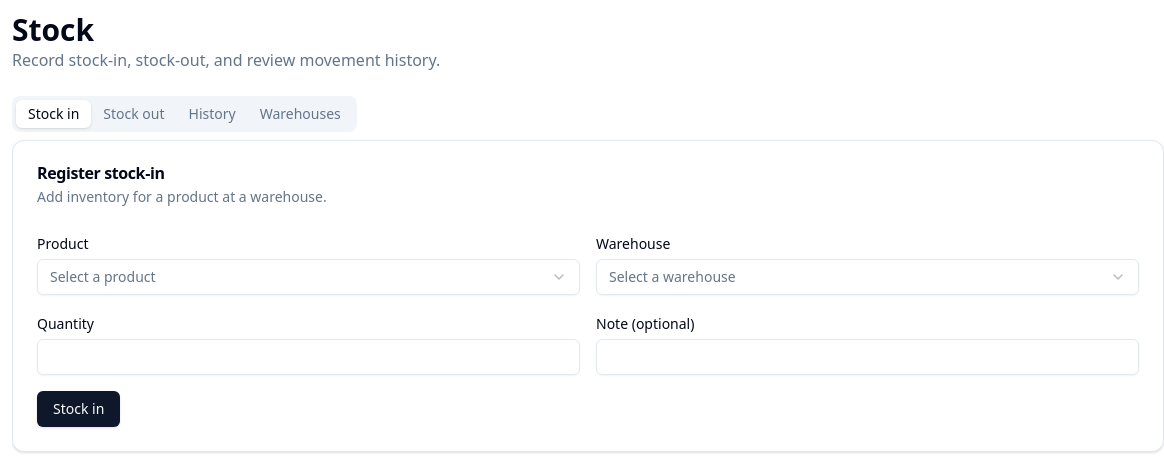
StockPanel (在庫操作) › 出庫タブをクリックすると出庫フォームに切り替わる
Click the tab "Stock out" at {"x": 134, "y": 114}, box [91,100,176,128]
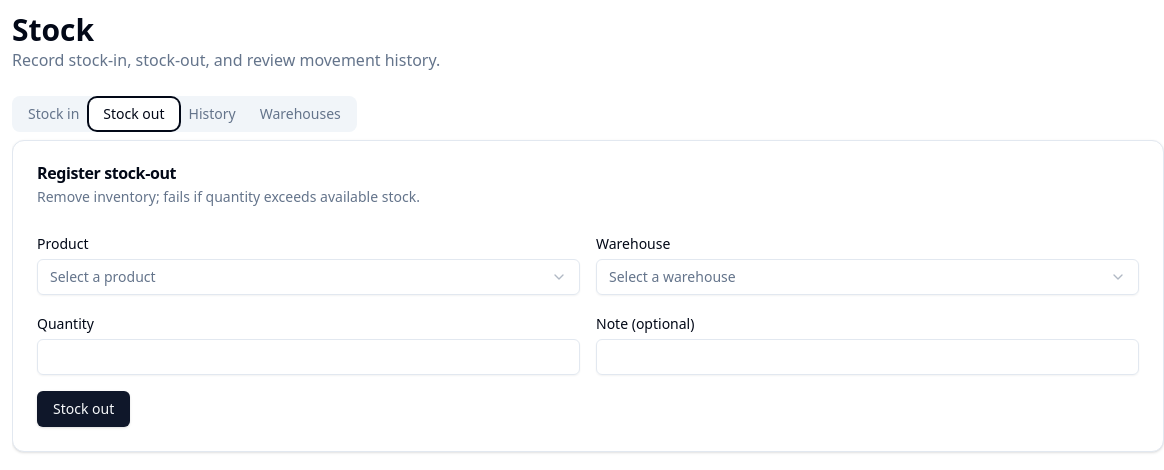
Now the text "Register stock-out" is shown, box [37,162,176,184]
